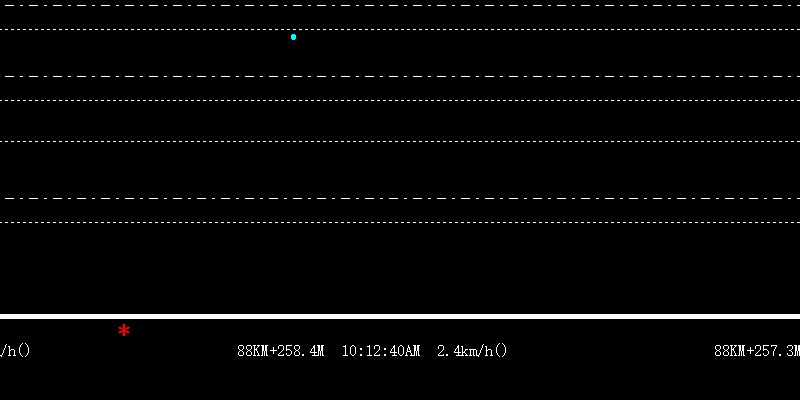face_down: (286, 26, 298, 43)
star: (116, 321, 132, 339)
